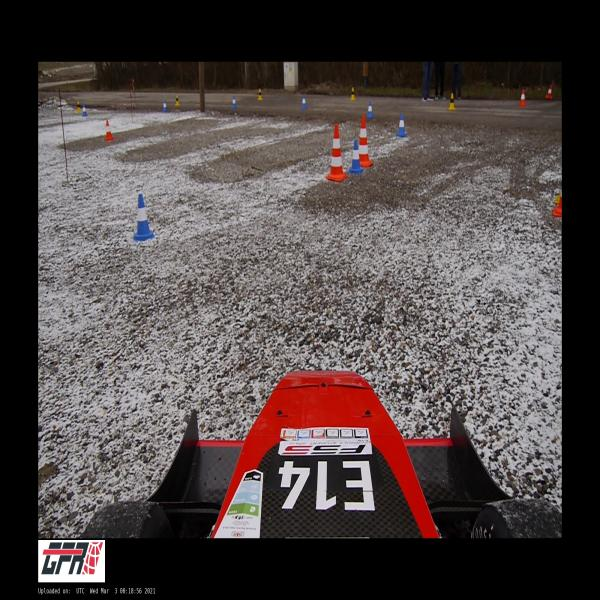blue_cone: (134, 194, 153, 239), (349, 140, 363, 172), (397, 114, 406, 136), (367, 101, 373, 118), (301, 94, 307, 109), (232, 96, 237, 108), (162, 100, 167, 112), (82, 104, 87, 116)
large_orange_cone: (328, 124, 346, 179), (356, 114, 372, 166)
orange_cone: (105, 120, 114, 141), (518, 89, 526, 107), (545, 84, 552, 97)
yellow_cone: (448, 92, 456, 110), (350, 87, 356, 100), (175, 95, 180, 105), (258, 89, 262, 100), (76, 101, 80, 112)
